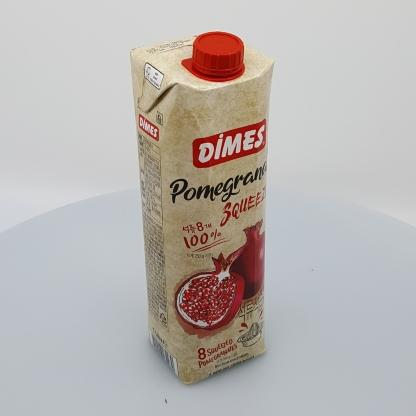DIMES------1000ML: (130, 31, 275, 385)
